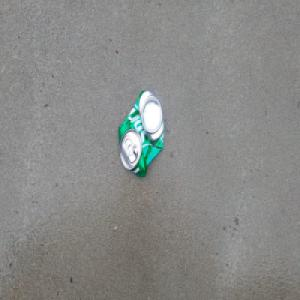SodaCan: (116, 85, 166, 180)
